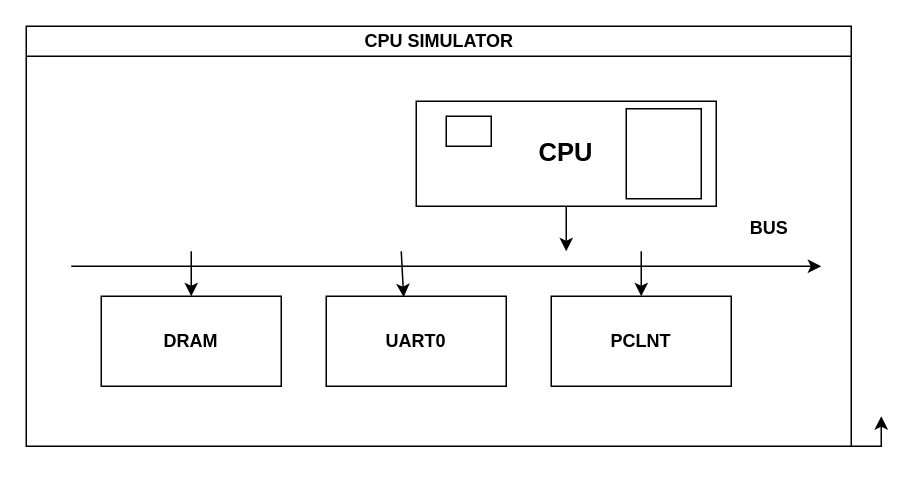
This 920x485 diagram has some shape labels left out. The centre of each missing label's shape, as x and y in pixels:
"PC" goes at [468,130].
"REGS" goes at [663,153].
